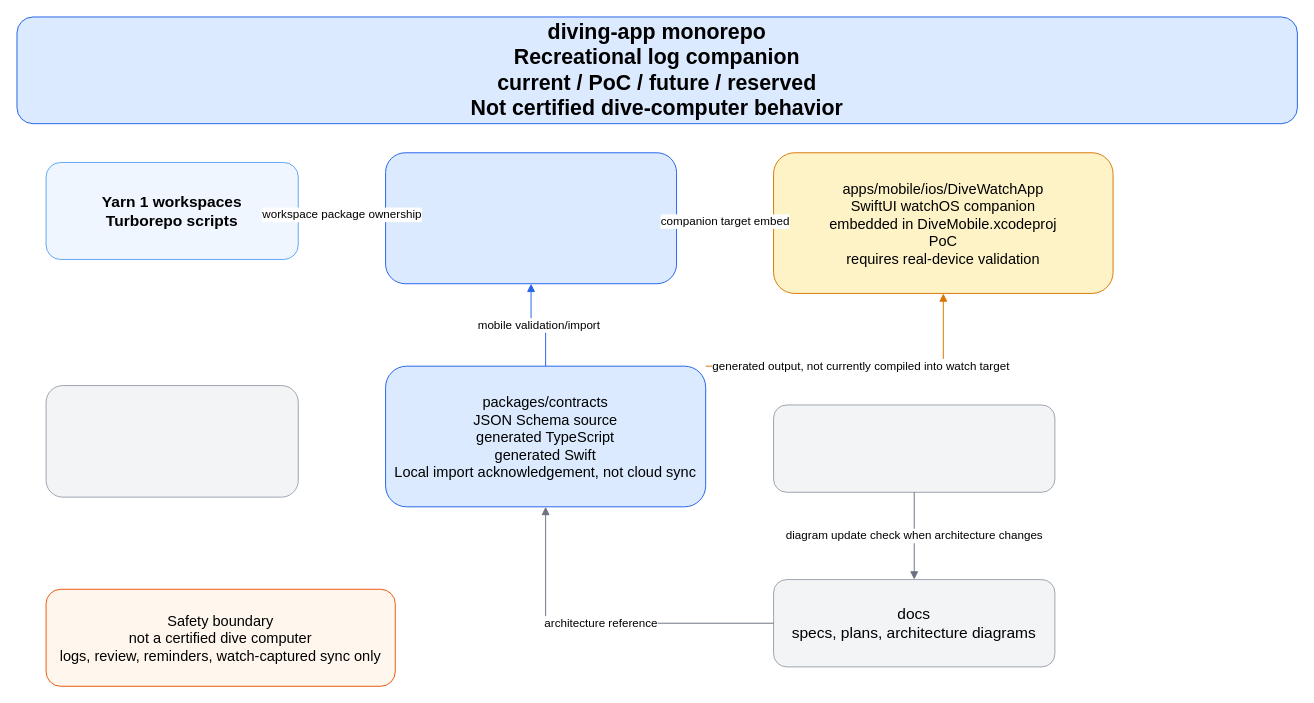
The diagram is 1314 pixels wide and 703 high, and some of its shapes have lost their labels. Each missing label, with the centre of its shape:
".wiki durable architecture knowledge" belongs at [914,448].
"apps/mobile React Native app iOS native project Android project current" belongs at [531,218].
"packages/shared-utils reserved currently empty future" belongs at [171,441].
